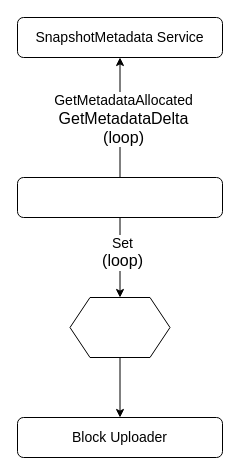
Image size: 240x475. Some labels were removed from this diagram. The centre of each missing label's shape, as x and y in pixels:
CBT Bitmap: (x=119, y=327)
CBT Layer: (x=119, y=197)
